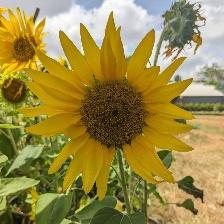sunflower: (19, 12, 197, 201), (1, 14, 50, 74), (1, 73, 34, 104)
